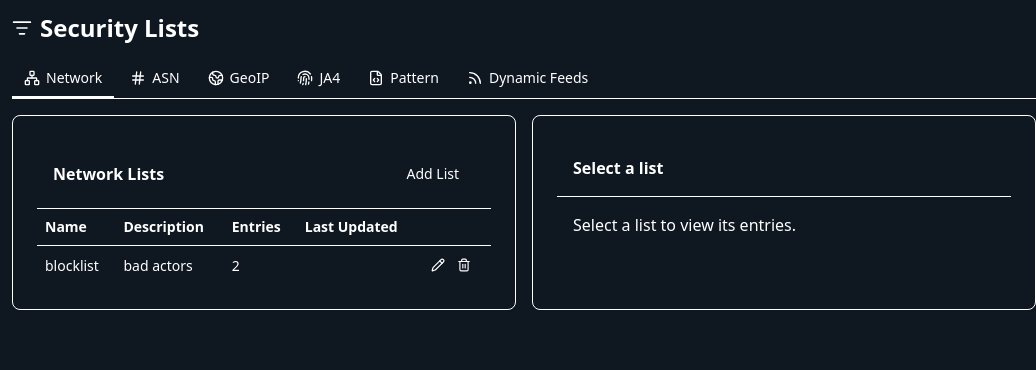
Test: SecurityLists page › selecting a JA4 list shows its entries
The width and height of the screenshot is (1036, 370).
Check: the text "blocklist" is shown, box [37,246,115,285]
Step 1. Click the button "JA4" → click(319, 79), box [285,60,352,98]
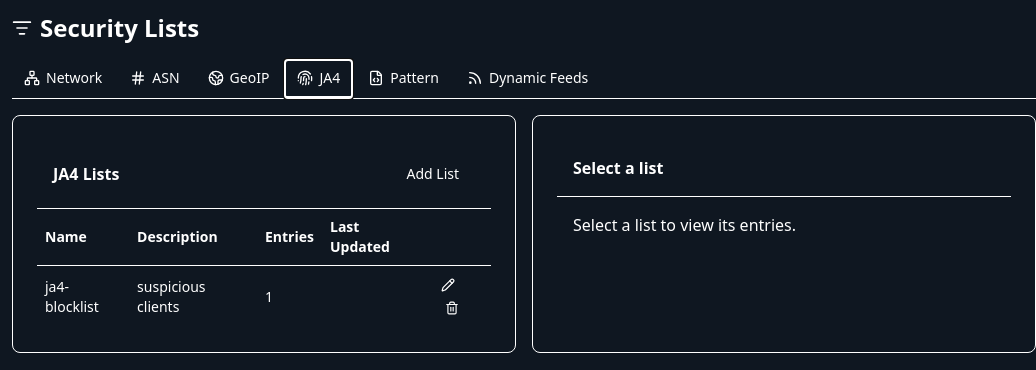
Check: the text "ja4-blocklist" is shown
Step 2. Click the text "ja4-blocklist" → click(83, 297), box [37,266,129,328]
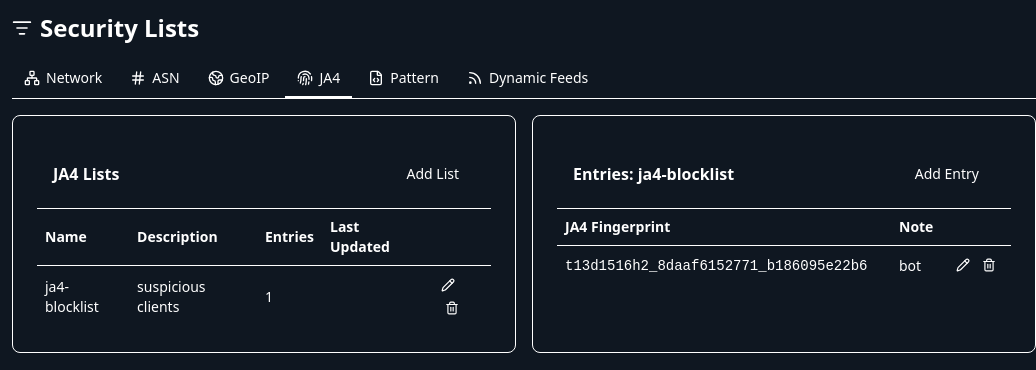
Check: the text "t13d1516h2_8daaf6152771_b186095e22b6" is shown, box [557,246,891,285]
Check: the text "bot" is shown, box [891,246,944,285]
